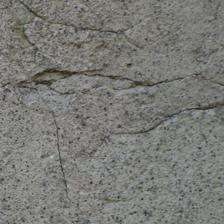Crack: (4, 2, 148, 52), (7, 66, 223, 95), (115, 103, 224, 142), (51, 113, 74, 203)
